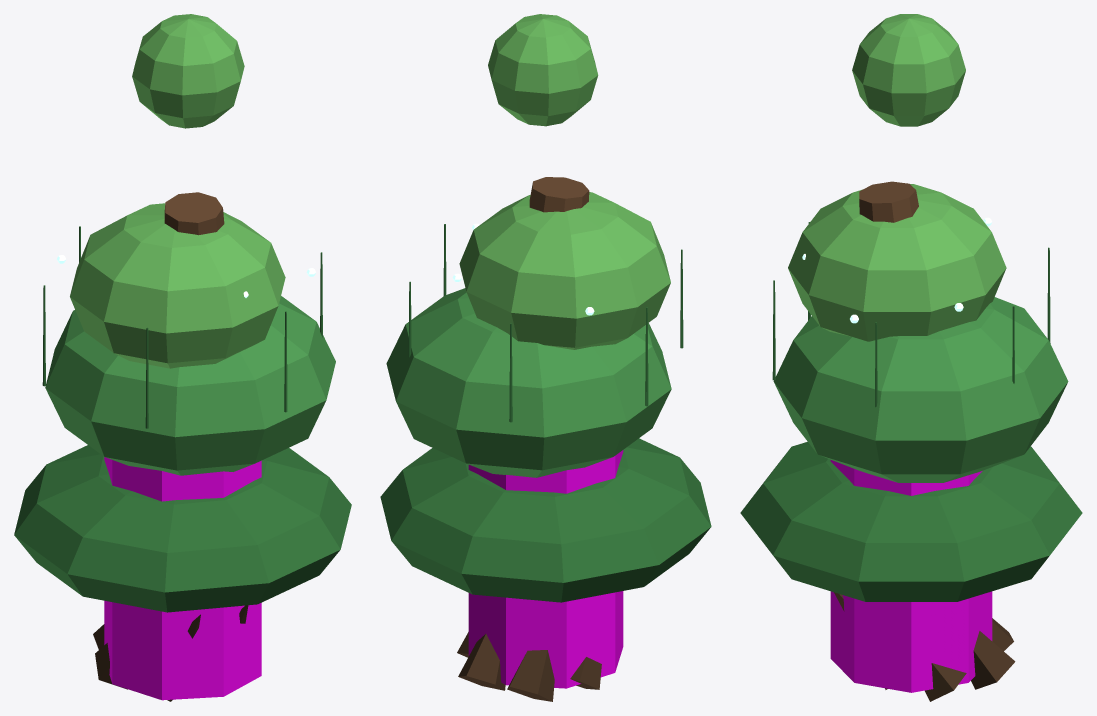
File: world_tree.glb
3 views of the same model, side by side, from view 1: azimuth 30°, elevation 25°; view 2: azimuth 150°, elevation 25°; view 3: azimuth 270°, elevation 25° (orthographic).
Visible parts, largest first — view 1: CanopyUnder, CanopyMid, CanopyTop, Col_main, CanopyTip, Trunk2; view 2: CanopyUnder, CanopyMid, CanopyTop, Col_main, CanopyTip, Trunk2, Root4, Root5, Root3; view 3: CanopyMid, CanopyUnder, CanopyTop, Col_main, CanopyTip, Trunk2, Root5, Root0.
Part boxes in pixels (box(x1,y1,x2,y2)): CanopyUnder: box(14, 445, 351, 612); CanopyMid: box(45, 296, 335, 475); CanopyTop: box(70, 203, 285, 368); Col_main: box(104, 457, 261, 700); CanopyTip: box(132, 14, 244, 128); Trunk2: box(164, 192, 224, 235); CanopyUnder: box(380, 438, 711, 602); CanopyMid: box(386, 288, 671, 477); CanopyTop: box(459, 192, 670, 349); Col_main: box(468, 450, 623, 688); CanopyTip: box(488, 14, 598, 126); Trunk2: box(529, 177, 589, 212); Root4: box(507, 650, 554, 701); Root5: box(458, 634, 505, 690); Root3: box(570, 657, 601, 689); CanopyMid: box(773, 297, 1068, 482); CanopyUnder: box(740, 441, 1082, 601); CanopyTop: box(788, 184, 1006, 341); Col_main: box(830, 460, 992, 692); CanopyTip: box(852, 14, 965, 126); Trunk2: box(859, 181, 918, 222); Root5: box(971, 631, 1015, 689); Root0: box(925, 663, 966, 701).
Bounding box in the file's own units: 6.85 × 15.28 × 7.2.
